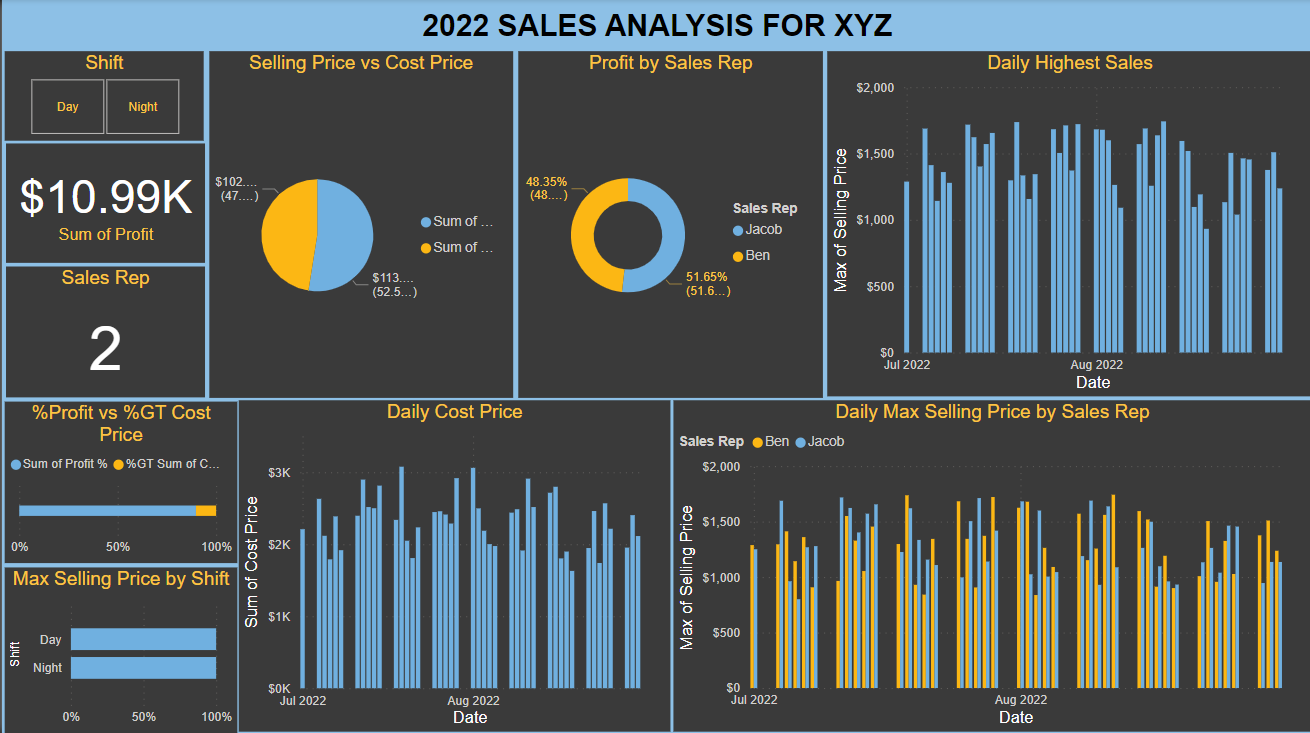

The dashboard page shown, as its layout file describes it:
{"tool":"powerbi","page":{"name":"DATA-FOR-PRACTICE","canvas":[1280,720],"ordinal":0},"visuals":[{"type":"card","fields":{"Values":["Sum(Sheet1.Profit)"]},"box":[3.9,141.1,194.7,116.3],"z":0},{"type":"card","title":"Sales Rep","fields":{"Values":["Count(Sheet1.Sales Rep)"]},"box":[3.9,261.3,194.7,128],"z":1000},{"type":"pieChart","title":"Selling Price vs Cost Price","fields":{"Y":["Sum(Sheet1.Selling Price)","Sum(Sheet1.Cost Price)"]},"box":[202.5,51,296.6,338.4],"z":2000},{"type":"columnChart","title":"Daily Cost Price","fields":{"Y":["Sum(Sheet1.Cost Price)"],"Category":["Sheet1.Date"]},"box":[231.2,391.9,422,324],"z":3000},{"type":"hundredPercentStackedBarChart","title":"%Profit vs %GT Cost Price","fields":{"Y":["Sum(Sheet1.Profit %)","Divide(Sum(Sheet1.Cost Price), ScopedEval(Sum(Sheet1.Cost Price), []))"]},"box":[2.6,393.2,227.3,158.1],"z":4000},{"type":"slicer","title":"Shift","fields":{"Values":["Sheet1.Shift"]},"box":[2.6,51,194.7,87.5],"z":5000},{"type":"donutChart","title":"Profit by Sales Rep","fields":{"Category":["Sheet1.Sales Rep"],"Y":["Sum(Sheet1.Profit)"]},"box":[504.3,51,297.9,338.4],"z":6000},{"type":"clusteredColumnChart","title":"Daily Highest Sales","fields":{"Y":["Max(Sheet1.Selling Price)"],"Category":["Sheet1.Date"]},"box":[804.8,52.3,474.2,337.1],"z":7000},{"type":"clusteredColumnChart","title":"Daily Max Selling Price by Sales Rep","fields":{"Y":["Max(Sheet1.Selling Price)"],"Category":["Sheet1.Date"],"Series":["Sheet1.Sales Rep"]},"box":[655.8,391.9,623.2,324],"z":8000},{"type":"hundredPercentStackedBarChart","title":"Max Selling Price by Shift","fields":{"Category":["Sheet1.Shift"],"Y":["Max(Sheet1.Selling Price)"]},"box":[2.6,555.2,227.3,162],"z":9000},{"type":"textbox","title":"2022 SALES ANALYSIS FOR XYZ","box":[398.5,9.1,483.4,41.8],"z":10000}]}

Visuals, with their boxes in screenshot pixels (x1, y1, x2, y2), scaled from the page's 1280x720 canvas onto the 1310x733 screenshot:
card - Sum(Sheet1.Profit): (4, 144, 203, 262)
"Sales Rep" card: (4, 266, 203, 396)
"Selling Price vs Cost Price" pieChart: (207, 52, 511, 396)
"Daily Cost Price" columnChart: (237, 399, 669, 729)
"%Profit vs %GT Cost Price" hundredPercentStackedBarChart: (3, 400, 235, 561)
"Shift" slicer: (3, 52, 202, 141)
"Profit by Sales Rep" donutChart: (516, 52, 821, 396)
"Daily Highest Sales" clusteredColumnChart: (824, 53, 1309, 396)
"Daily Max Selling Price by Sales Rep" clusteredColumnChart: (671, 399, 1309, 729)
"Max Selling Price by Shift" hundredPercentStackedBarChart: (3, 565, 235, 730)
"2022 SALES ANALYSIS FOR XYZ" textbox: (408, 9, 903, 52)
